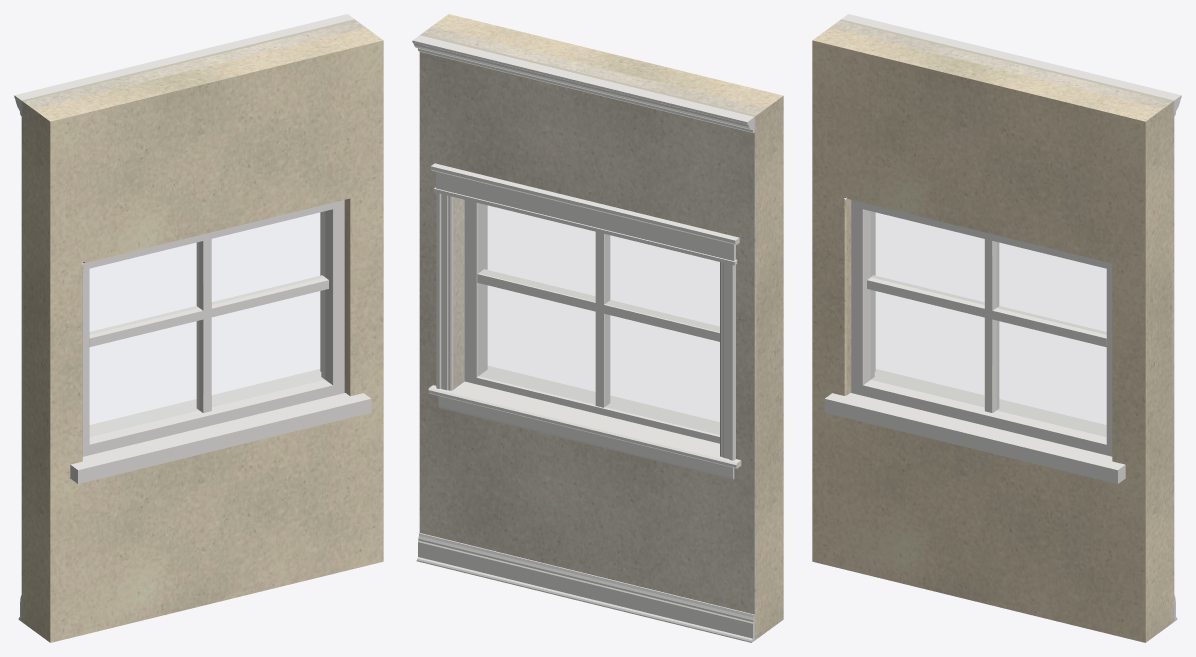
Rendered from wall_up_back_window.glb.
The picture shows the model from 3 angles, left to right: view 1: azimuth 30°, elevation 25°; view 2: azimuth 150°, elevation 25°; view 3: azimuth 330°, elevation 25°; orthographic projection.
Parts seen in each view (by area): view 1: wall_up_back_window_stucco, folha_glass, wall_up_back_window_frame, wall_up_back_window_trim, wall_up_back_window_plaster, molduras; view 2: wall_up_back_window_plaster, molduras, folha_glass, wall_up_back_window_stucco, folha_frame, wall_up_back_window_frame, wall_up_back_window_trim; view 3: wall_up_back_window_stucco, folha_glass, wall_up_back_window_frame, wall_up_back_window_trim, wall_up_back_window_plaster, molduras.
Part boxes in pixels (x1,y1,x2,y2): wall_up_back_window_stucco: (23, 28, 383, 642); folha_glass: (90, 212, 324, 436); wall_up_back_window_frame: (82, 200, 344, 456); wall_up_back_window_trim: (70, 393, 371, 483); wall_up_back_window_plaster: (21, 19, 365, 622); molduras: (14, 14, 354, 621); wall_up_back_window_plaster: (419, 26, 765, 640); molduras: (412, 35, 754, 642); folha_glass: (479, 204, 719, 434); wall_up_back_window_stucco: (431, 14, 783, 638); folha_frame: (464, 200, 719, 443); wall_up_back_window_frame: (476, 203, 719, 436); wall_up_back_window_trim: (487, 365, 719, 425); wall_up_back_window_stucco: (812, 28, 1172, 642); folha_glass: (871, 212, 1105, 436); wall_up_back_window_frame: (851, 200, 1112, 456); wall_up_back_window_trim: (824, 393, 1125, 483); wall_up_back_window_plaster: (830, 19, 1174, 622); molduras: (841, 14, 1181, 621).
Size of the model in its own units: 2 by 2.99 by 0.455.
5 materials, 2 textured.
